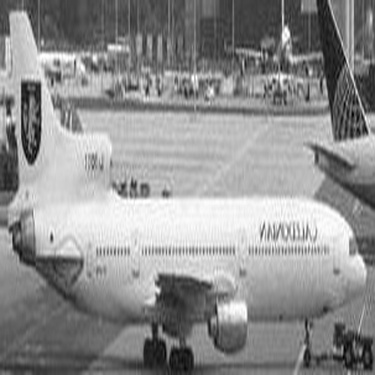airplane: (3, 3, 369, 368), (287, 1, 371, 217), (215, 20, 340, 85), (3, 29, 93, 99)
